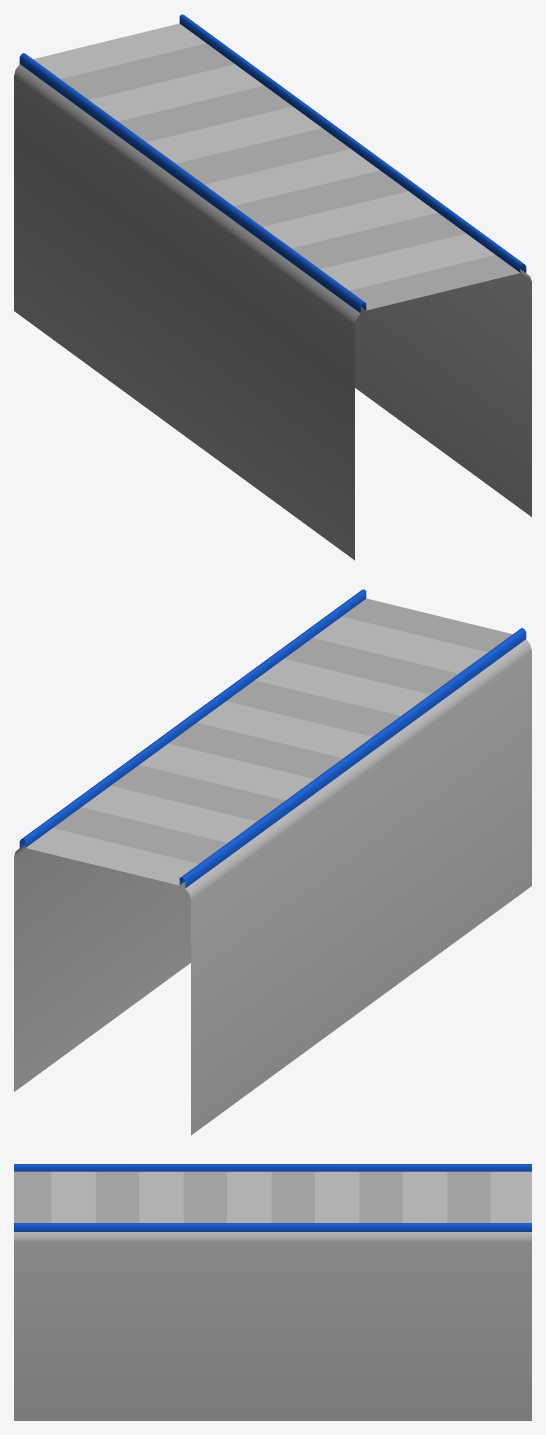
The model's file is Road.fbx.
3 views of the same model, one above another, from view 1: azimuth 30°, elevation 25°; view 2: azimuth 150°, elevation 25°; view 3: azimuth 270°, elevation 25° (orthographic). The views are drawn at different scales.
Parts seen in each view (by area): view 1: Road; view 2: Road; view 3: Road.
Part boxes in pixels (box(x1,y1,x2,y2)): Road: box(14, 14, 531, 560); Road: box(14, 589, 531, 1135); Road: box(14, 1164, 531, 1420).
Bounding box in the file's own units: 600 × 828 × 2000.
